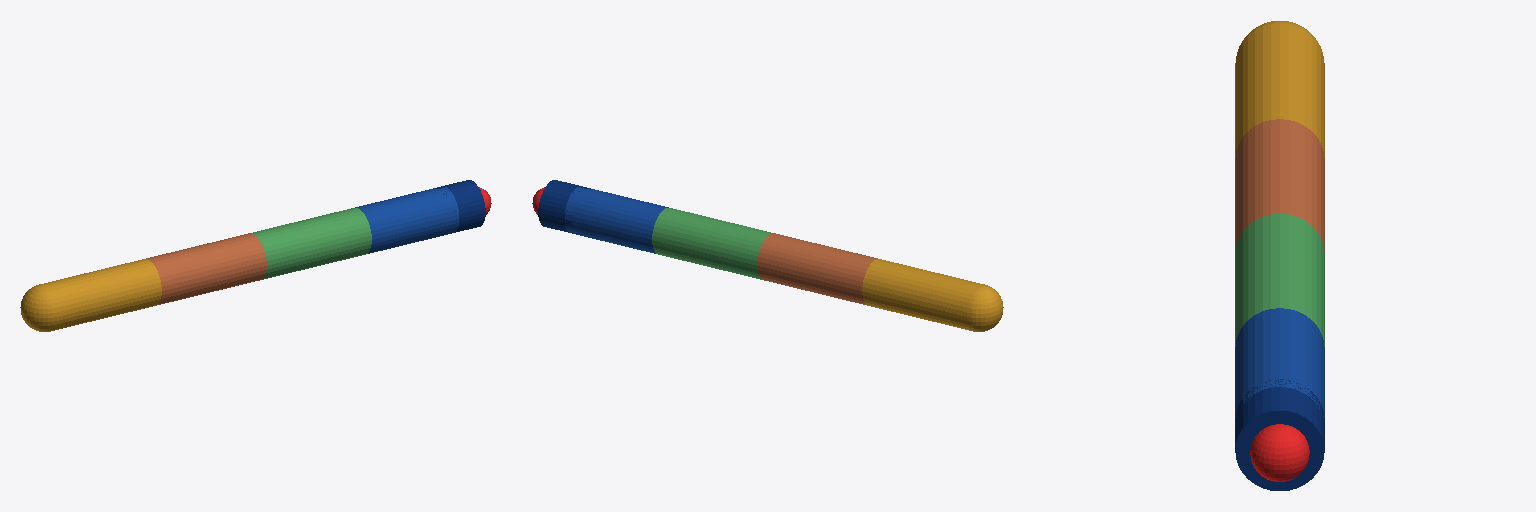
URDF robot description (underwater_snakerobot_4link):
<?xml version="1.0" ?>
<!--
  Four-link, three-physical-joint underwater snake robot URDF.
  Matches the dynamics derivation document:
    n = 4 propulsion links, n-1 = 3 physical joints (each pitch + yaw)
    Joint coordinates: theta1(pitch), theta2(yaw), theta3(pitch), theta4(yaw), theta5(pitch), theta6(yaw)
    FreeFlyer base 6 DOF => core zeta in R^12

  Each link frame is at its centroid, x-axis along link centerline.
  Link length Lambda = 0.3m, so L_{i,1} = L_{i,2} = 0.15m.

  Visual: cylinder bodies + .dae screw propeller meshes.
-->
<robot name="underwater_snakerobot_4link" xmlns:xacro="http://www.ros.org/wiki/xacro">

  <!-- ======================= Link 1 (base_link / head) ======================= -->
  <link name="base_link">
    <inertial>
      <origin xyz="0 0 0" rpy="0 0 0"/>
      <mass value="2.0"/>
      <inertia ixx="0.015" ixy="0" ixz="0"
               iyy="0.015" iyz="0"
               izz="0.0036"/>
    </inertial>
    <visual name="body1">
      <origin xyz="-0.025 0 0" rpy="0 1.5707963 0"/>
      <geometry>
        <cylinder radius="0.06" length="0.25"/>
      </geometry>
      <material name="link1_color">
        <color rgba="0.15 0.35 0.65 1.0"/>
      </material>
    </visual>
    <visual name="nose_cone">
      <origin xyz="0.125 0 0" rpy="0 -1.5707963 0"/>
      <geometry>
        <cylinder radius="0.06" length="0.10"/>
      </geometry>
      <material name="nose_color">
        <color rgba="0.10 0.25 0.50 1.0"/>
      </material>
    </visual>
    <visual name="nose_tip">
      <origin xyz="0.18 0 0" rpy="0 0 0"/>
      <geometry>
        <sphere radius="0.04"/>
      </geometry>
      <material name="nose_tip_color">
        <color rgba="0.90 0.20 0.20 1.0"/>
      </material>
    </visual>
    <collision>
      <origin xyz="0 0 0" rpy="0 1.5707963 0"/>
      <geometry>
        <cylinder radius="0.06" length="0.3"/>
      </geometry>
    </collision>
  </link>

  <link name="screw_1_left">
    <visual>
      <origin xyz="0 0 0" rpy="0 1.5707963 0"/>
      <geometry>
        <mesh filename="package://asr_sdm_description/meshes/screw_left_CFD.dae"/>
      </geometry>
    </visual>
  </link>
  <link name="screw_1_right">
    <visual>
      <origin xyz="0 0 0" rpy="0 1.5707963 0"/>
      <geometry>
        <mesh filename="package://asr_sdm_description/meshes/screw_right_CFD.dae"/>
      </geometry>
    </visual>
  </link>
  <joint name="link1_to_screw_1_left" type="fixed">
    <parent link="base_link"/>
    <child link="screw_1_left"/>
    <origin xyz="0.10 0.07 0" rpy="0 0 0"/>
  </joint>
  <joint name="link1_to_screw_1_right" type="fixed">
    <parent link="base_link"/>
    <child link="screw_1_right"/>
    <origin xyz="0.10 -0.07 0" rpy="0 0 0"/>
  </joint>

  <!-- ============= Joint 1 (Link 1 -> Link 2): theta1(pitch), theta2(yaw) ============= -->
  <link name="joint1_intermediate">
    <inertial>
      <mass value="0.001"/>
      <inertia ixx="1e-8" ixy="0" ixz="0" iyy="1e-8" iyz="0" izz="1e-8"/>
    </inertial>
    <visual name="joint1_sphere">
      <origin xyz="0 0 0" rpy="0 0 0"/>
      <geometry>
        <sphere radius="0.035"/>
      </geometry>
      <material name="joint_color">
        <color rgba="0.3 0.3 0.3 1.0"/>
      </material>
    </visual>
  </link>

  <joint name="joint1_pitch" type="revolute">
    <parent link="base_link"/>
    <child link="joint1_intermediate"/>
    <origin xyz="-0.15 0 0" rpy="0 0 0"/>
    <axis xyz="0 1 0"/>
    <limit lower="-1.57" upper="1.57" effort="100.0" velocity="10.0"/>
  </joint>
  <joint name="joint1_yaw" type="revolute">
    <parent link="joint1_intermediate"/>
    <child link="link_2"/>
    <origin xyz="-0.15 0 0" rpy="0 0 0"/>
    <axis xyz="0 0 1"/>
    <limit lower="-1.57" upper="1.57" effort="100.0" velocity="10.0"/>
  </joint>

  <!-- ======================= Link 2 ======================= -->
  <link name="link_2">
    <inertial>
      <origin xyz="0 0 0" rpy="0 0 0"/>
      <mass value="2.0"/>
      <inertia ixx="0.015" ixy="0" ixz="0"
               iyy="0.015" iyz="0"
               izz="0.0036"/>
    </inertial>
    <visual name="body2">
      <origin xyz="0 0 0" rpy="0 1.5707963 0"/>
      <geometry>
        <cylinder radius="0.06" length="0.3"/>
      </geometry>
      <material name="link2_color">
        <color rgba="0.35 0.65 0.40 1.0"/>
      </material>
    </visual>
    <collision>
      <origin xyz="0 0 0" rpy="0 1.5707963 0"/>
      <geometry>
        <cylinder radius="0.06" length="0.3"/>
      </geometry>
    </collision>
  </link>

  <link name="screw_2_left">
    <visual>
      <origin xyz="0 0 0" rpy="0 1.5707963 0"/>
      <geometry>
        <mesh filename="package://asr_sdm_description/meshes/screw_left_CFD.dae"/>
      </geometry>
    </visual>
  </link>
  <link name="screw_2_right">
    <visual>
      <origin xyz="0 0 0" rpy="0 1.5707963 0"/>
      <geometry>
        <mesh filename="package://asr_sdm_description/meshes/screw_right_CFD.dae"/>
      </geometry>
    </visual>
  </link>
  <joint name="link2_to_screw_2_left" type="fixed">
    <parent link="link_2"/>
    <child link="screw_2_left"/>
    <origin xyz="0.10 0.07 0" rpy="0 0 0"/>
  </joint>
  <joint name="link2_to_screw_2_right" type="fixed">
    <parent link="link_2"/>
    <child link="screw_2_right"/>
    <origin xyz="0.10 -0.07 0" rpy="0 0 0"/>
  </joint>

  <!-- ============= Joint 2 (Link 2 -> Link 3): theta3(pitch), theta4(yaw) ============= -->
  <link name="joint2_intermediate">
    <inertial>
      <mass value="0.001"/>
      <inertia ixx="1e-8" ixy="0" ixz="0" iyy="1e-8" iyz="0" izz="1e-8"/>
    </inertial>
    <visual name="joint2_sphere">
      <origin xyz="0 0 0" rpy="0 0 0"/>
      <geometry>
        <sphere radius="0.035"/>
      </geometry>
      <material name="joint_color">
        <color rgba="0.3 0.3 0.3 1.0"/>
      </material>
    </visual>
  </link>

  <joint name="joint2_pitch" type="revolute">
    <parent link="link_2"/>
    <child link="joint2_intermediate"/>
    <origin xyz="-0.15 0 0" rpy="0 0 0"/>
    <axis xyz="0 1 0"/>
    <limit lower="-1.57" upper="1.57" effort="100.0" velocity="10.0"/>
  </joint>
  <joint name="joint2_yaw" type="revolute">
    <parent link="joint2_intermediate"/>
    <child link="link_3"/>
    <origin xyz="-0.15 0 0" rpy="0 0 0"/>
    <axis xyz="0 0 1"/>
    <limit lower="-1.57" upper="1.57" effort="100.0" velocity="10.0"/>
  </joint>

  <!-- ======================= Link 3 ======================= -->
  <link name="link_3">
    <inertial>
      <origin xyz="0 0 0" rpy="0 0 0"/>
      <mass value="2.0"/>
      <inertia ixx="0.015" ixy="0" ixz="0"
               iyy="0.015" iyz="0"
               izz="0.0036"/>
    </inertial>
    <visual name="body3">
      <origin xyz="0 0 0" rpy="0 1.5707963 0"/>
      <geometry>
        <cylinder radius="0.06" length="0.3"/>
      </geometry>
      <material name="link3_color">
        <color rgba="0.75 0.45 0.30 1.0"/>
      </material>
    </visual>
    <collision>
      <origin xyz="0 0 0" rpy="0 1.5707963 0"/>
      <geometry>
        <cylinder radius="0.06" length="0.3"/>
      </geometry>
    </collision>
  </link>

  <link name="screw_3_left">
    <visual>
      <origin xyz="0 0 0" rpy="0 1.5707963 0"/>
      <geometry>
        <mesh filename="package://asr_sdm_description/meshes/screw_left_CFD.dae"/>
      </geometry>
    </visual>
  </link>
  <link name="screw_3_right">
    <visual>
      <origin xyz="0 0 0" rpy="0 1.5707963 0"/>
      <geometry>
        <mesh filename="package://asr_sdm_description/meshes/screw_right_CFD.dae"/>
      </geometry>
    </visual>
  </link>
  <joint name="link3_to_screw_3_left" type="fixed">
    <parent link="link_3"/>
    <child link="screw_3_left"/>
    <origin xyz="0.10 0.07 0" rpy="0 0 0"/>
  </joint>
  <joint name="link3_to_screw_3_right" type="fixed">
    <parent link="link_3"/>
    <child link="screw_3_right"/>
    <origin xyz="0.10 -0.07 0" rpy="0 0 0"/>
  </joint>

  <!-- ============= Joint 3 (Link 3 -> Link 4): theta5(pitch), theta6(yaw) ============= -->
  <link name="joint3_intermediate">
    <inertial>
      <mass value="0.001"/>
      <inertia ixx="1e-8" ixy="0" ixz="0" iyy="1e-8" iyz="0" izz="1e-8"/>
    </inertial>
    <visual name="joint3_sphere">
      <origin xyz="0 0 0" rpy="0 0 0"/>
      <geometry>
        <sphere radius="0.035"/>
      </geometry>
      <material name="joint_color">
        <color rgba="0.3 0.3 0.3 1.0"/>
      </material>
    </visual>
  </link>

  <joint name="joint3_pitch" type="revolute">
    <parent link="link_3"/>
    <child link="joint3_intermediate"/>
    <origin xyz="-0.15 0 0" rpy="0 0 0"/>
    <axis xyz="0 1 0"/>
    <limit lower="-1.57" upper="1.57" effort="100.0" velocity="10.0"/>
  </joint>
  <joint name="joint3_yaw" type="revolute">
    <parent link="joint3_intermediate"/>
    <child link="link_4"/>
    <origin xyz="-0.15 0 0" rpy="0 0 0"/>
    <axis xyz="0 0 1"/>
    <limit lower="-1.57" upper="1.57" effort="100.0" velocity="10.0"/>
  </joint>

  <!-- ======================= Link 4 (tail) ======================= -->
  <link name="link_4">
    <inertial>
      <origin xyz="0 0 0" rpy="0 0 0"/>
      <mass value="2.0"/>
      <inertia ixx="0.015" ixy="0" ixz="0"
               iyy="0.015" iyz="0"
               izz="0.0036"/>
    </inertial>
    <visual name="body4">
      <origin xyz="0 0 0" rpy="0 1.5707963 0"/>
      <geometry>
        <cylinder radius="0.06" length="0.3"/>
      </geometry>
      <material name="link4_color">
        <color rgba="0.80 0.60 0.20 1.0"/>
      </material>
    </visual>
    <visual name="cap4_rear">
      <origin xyz="-0.15 0 0" rpy="0 0 0"/>
      <geometry>
        <sphere radius="0.06"/>
      </geometry>
      <material name="link4_color">
        <color rgba="0.80 0.60 0.20 1.0"/>
      </material>
    </visual>
    <collision>
      <origin xyz="0 0 0" rpy="0 1.5707963 0"/>
      <geometry>
        <cylinder radius="0.06" length="0.3"/>
      </geometry>
    </collision>
  </link>

  <link name="screw_4_left">
    <visual>
      <origin xyz="0 0 0" rpy="0 1.5707963 0"/>
      <geometry>
        <mesh filename="package://asr_sdm_description/meshes/screw_left_CFD.dae"/>
      </geometry>
    </visual>
  </link>
  <link name="screw_4_right">
    <visual>
      <origin xyz="0 0 0" rpy="0 1.5707963 0"/>
      <geometry>
        <mesh filename="package://asr_sdm_description/meshes/screw_right_CFD.dae"/>
      </geometry>
    </visual>
  </link>
  <joint name="link4_to_screw_4_left" type="fixed">
    <parent link="link_4"/>
    <child link="screw_4_left"/>
    <origin xyz="0.10 0.07 0" rpy="0 0 0"/>
  </joint>
  <joint name="link4_to_screw_4_right" type="fixed">
    <parent link="link_4"/>
    <child link="screw_4_right"/>
    <origin xyz="0.10 -0.07 0" rpy="0 0 0"/>
  </joint>
</robot>

--- Render facts (derived) ---
The picture shows the robot from 3 angles, left to right: view 1: azimuth 30°, elevation 25°; view 2: azimuth 150°, elevation 25°; view 3: azimuth 270°, elevation 25°; orthographic projection.
Model underwater_snakerobot_4link with 15 links and 14 joints (6 revolute, 8 fixed), rooted at base_link, posed all joints at 0.
Links seen in each view (by area): view 1: link_4, base_link, link_3, link_2; view 2: link_4, base_link, link_3, link_2; view 3: base_link, link_4, link_3, link_2.
Boxes of the visible links, <box> form: link_4: <box>20,259,161,331</box>; base_link: <box>355,180,491,253</box>; link_3: <box>146,233,266,304</box>; link_2: <box>252,208,371,279</box>; link_4: <box>862,259,1003,331</box>; base_link: <box>532,180,668,253</box>; link_3: <box>757,233,877,304</box>; link_2: <box>652,208,771,279</box>; base_link: <box>1235,308,1324,490</box>; link_4: <box>1235,21,1324,157</box>; link_3: <box>1235,119,1324,251</box>; link_2: <box>1235,214,1324,346</box>.
Size in the robot's own frame: 1.33 by 0.12 by 0.12 metres.
Meshes: 2 distinct files referenced, 0 mesh visuals loaded (none loaded); not drawn: 8 (reference not matched to a file when rendering).
